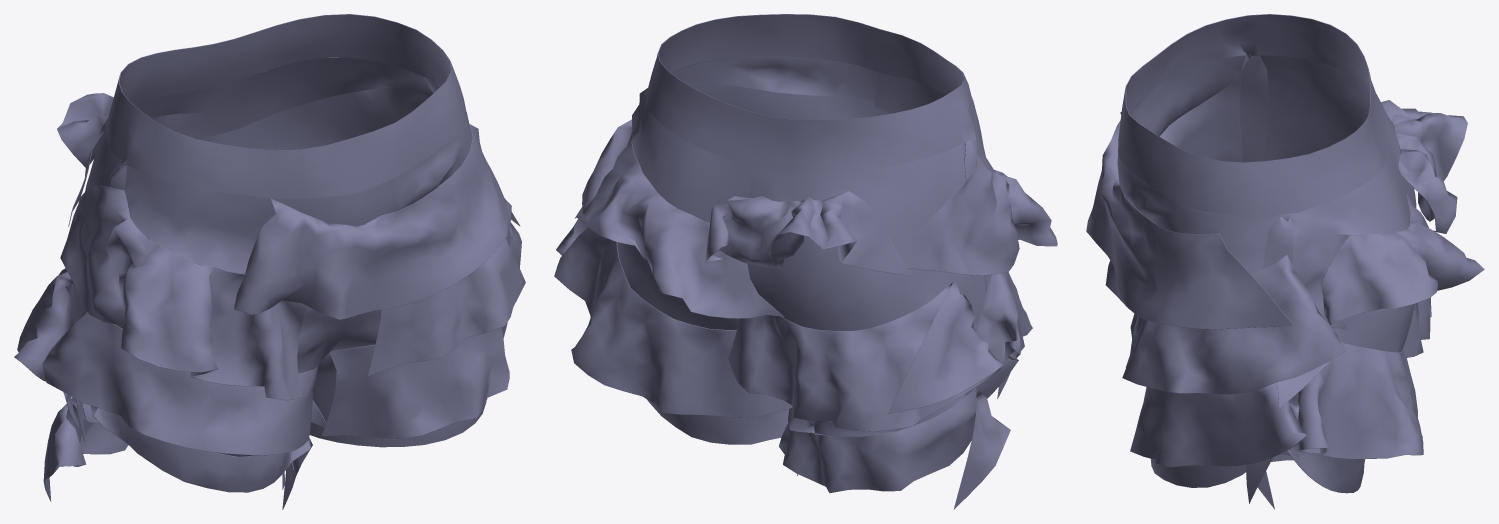
3 renders of one model, left to right at view 1: azimuth 30°, elevation 25°; view 2: azimuth 150°, elevation 25°; view 3: azimuth 270°, elevation 25°, orthographic. The views are drawn at different scales.
Visible parts, largest first — view 1: Pattern2D_523325, Pattern2D_3805022, Pattern2D_3805023, Pattern2D_1055682, Pattern2D_3805019, Pattern2D_1027841, Pattern2D_3805025, Pattern2D_3805021, Pattern2D_3805020, Pattern2D_3805024, Pattern2D_1028449, Pattern2D_3805031 (+2 smaller); view 2: Pattern2D_523325, Pattern2D_3805031, Pattern2D_1028449, Pattern2D_3805028, Pattern2D_3805026, Pattern2D_3805030, Pattern2D_3805029, Pattern2D_3805022, Pattern2D_3805020, Pattern2D_3805019, Pattern2D_1055682, Pattern2D_3805027 (+2 smaller); view 3: Pattern2D_523325, Pattern2D_3805023, Pattern2D_3805021, Pattern2D_1028449, Pattern2D_3805028, Pattern2D_3805019, Pattern2D_3805025, Pattern2D_3805026, Pattern2D_1027841, Pattern2D_3805020, Pattern2D_3805029, Pattern2D_3805027 (+1 smaller).
Boxes of the visible parts, <box> form: Pattern2D_523325: <box>105,14,466,198</box>; Pattern2D_3805022: <box>60,186,307,400</box>; Pattern2D_3805023: <box>233,124,508,319</box>; Pattern2D_1055682: <box>42,310,325,455</box>; Pattern2D_3805019: <box>198,57,433,150</box>; Pattern2D_1027841: <box>107,165,362,456</box>; Pattern2D_3805025: <box>321,222,521,438</box>; Pattern2D_3805021: <box>367,198,525,375</box>; Pattern2D_3805020: <box>309,77,486,447</box>; Pattern2D_3805024: <box>76,400,312,509</box>; Pattern2D_1028449: <box>68,87,212,422</box>; Pattern2D_3805031: <box>14,268,73,381</box>; Pattern2D_523325: <box>645,14,978,172</box>; Pattern2D_3805031: <box>728,279,1004,431</box>; Pattern2D_1028449: <box>747,142,986,436</box>; Pattern2D_3805028: <box>554,227,792,417</box>; Pattern2D_3805026: <box>583,141,783,318</box>; Pattern2D_3805030: <box>779,388,1010,509</box>; Pattern2D_3805029: <box>705,191,911,275</box>; Pattern2D_3805022: <box>899,156,1057,275</box>; Pattern2D_3805020: <box>670,55,878,119</box>; Pattern2D_3805019: <box>617,88,752,329</box>; Pattern2D_1055682: <box>965,272,1032,398</box>; Pattern2D_3805027: <box>647,399,789,444</box>; Pattern2D_523325: <box>1118,14,1387,214</box>; Pattern2D_3805023: <box>1086,112,1293,329</box>; Pattern2D_3805021: <box>1122,255,1345,408</box>; Pattern2D_1028449: <box>1240,55,1416,207</box>; Pattern2D_3805028: <box>1297,342,1423,459</box>; Pattern2D_3805019: <box>1263,144,1414,408</box>; Pattern2D_3805025: <box>1130,382,1306,467</box>; Pattern2D_3805026: <box>1320,193,1484,329</box>; Pattern2D_1027841: <box>1117,52,1251,162</box>; Pattern2D_3805020: <box>1117,150,1281,487</box>; Pattern2D_3805029: <box>1381,100,1467,233</box>; Pattern2D_3805027: <box>1246,402,1365,503</box>.
Size of the model in its own units: 51.07 by 44.62 by 37.98.
